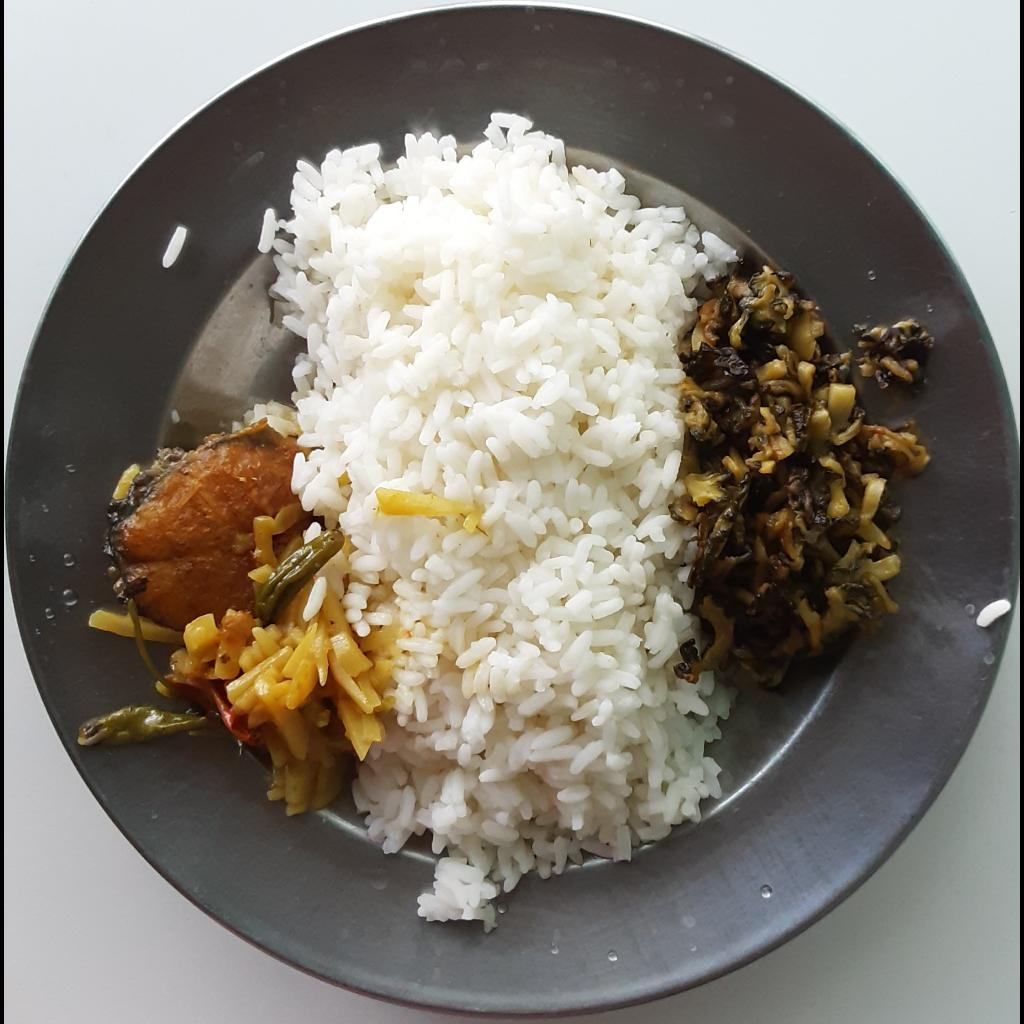fish: (102, 423, 291, 628)
korola-vaji: (677, 267, 937, 683)
potato: (70, 510, 387, 822)
rice: (239, 110, 745, 935)
